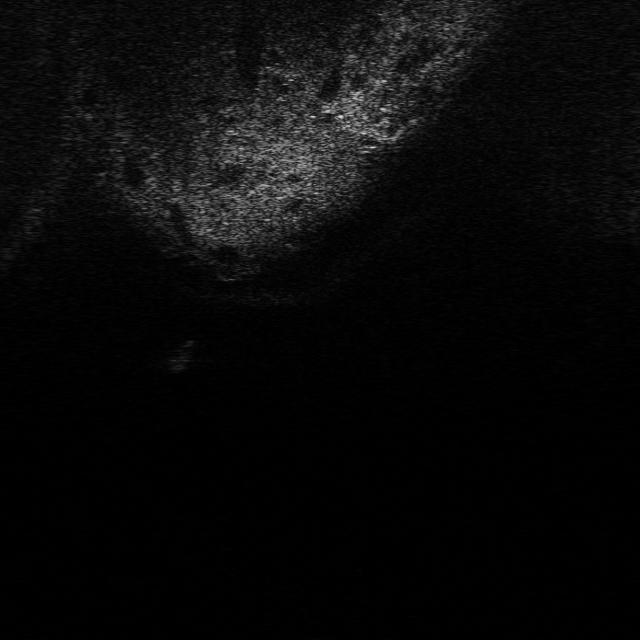cylinder: (168, 337, 197, 371)
